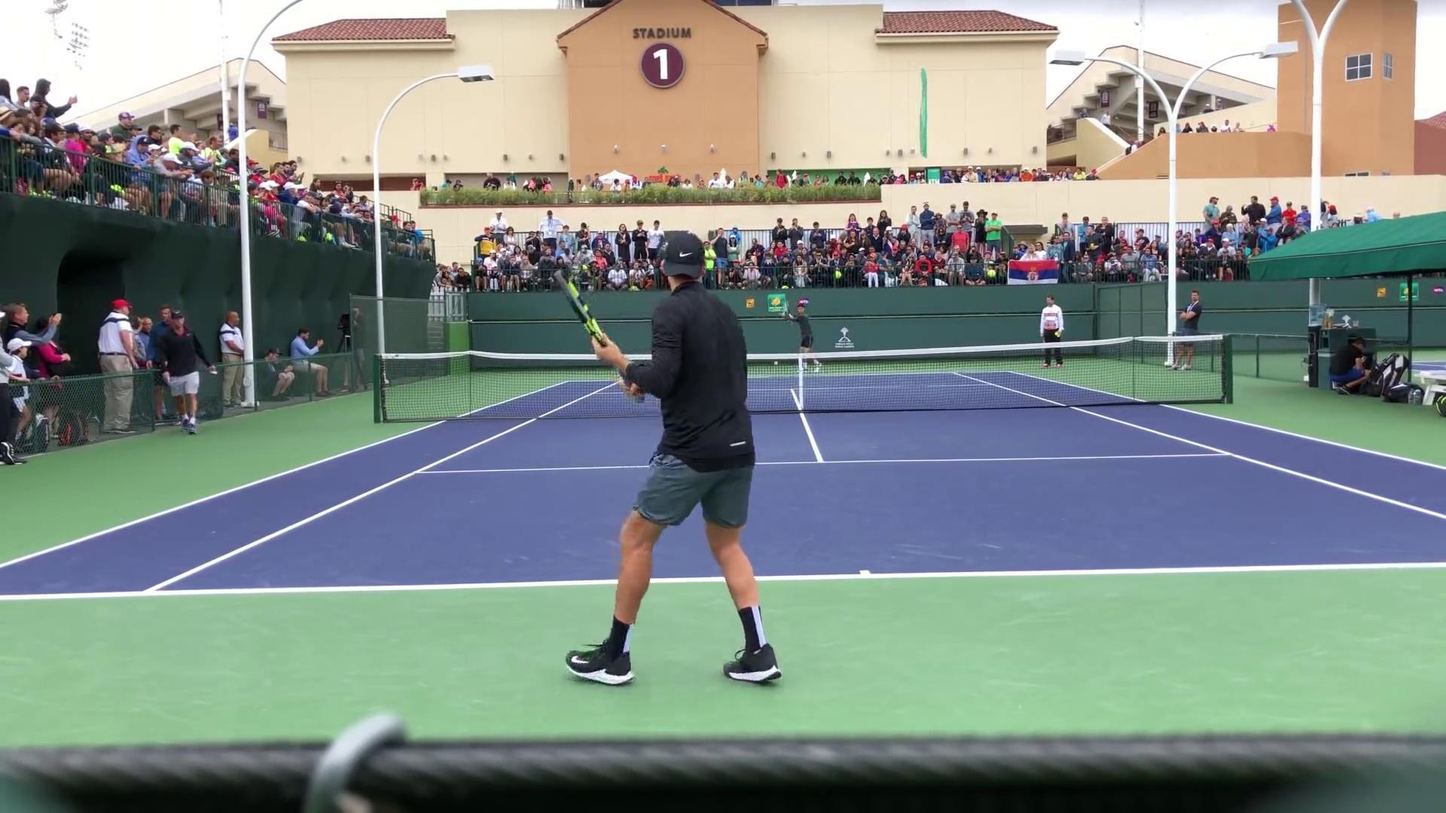ball: (773, 362, 779, 367)
